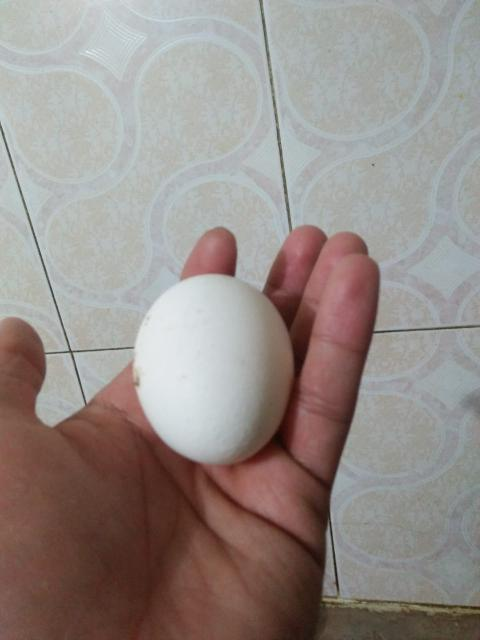Sano: (132, 273, 293, 465)
